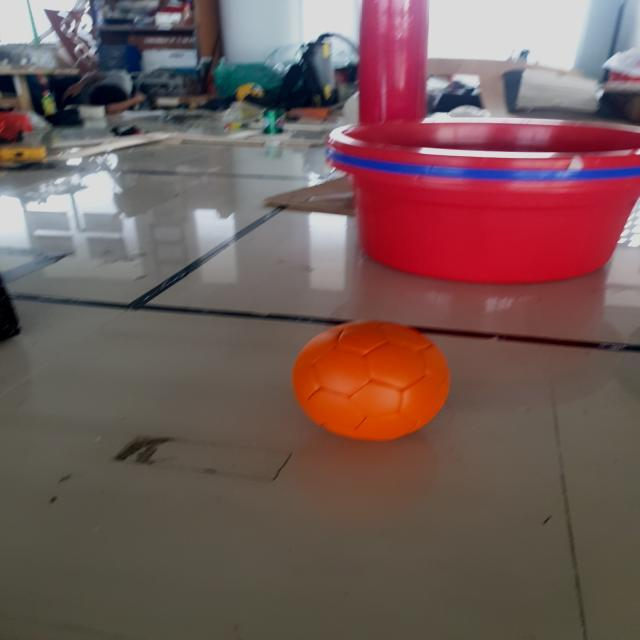bola: (290, 312, 454, 445)
